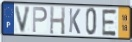0: (85, 7, 99, 37)
E: (101, 9, 118, 38)
H: (49, 6, 66, 36)
K: (68, 8, 82, 36)
P: (32, 6, 48, 34)
V: (13, 5, 32, 34)
